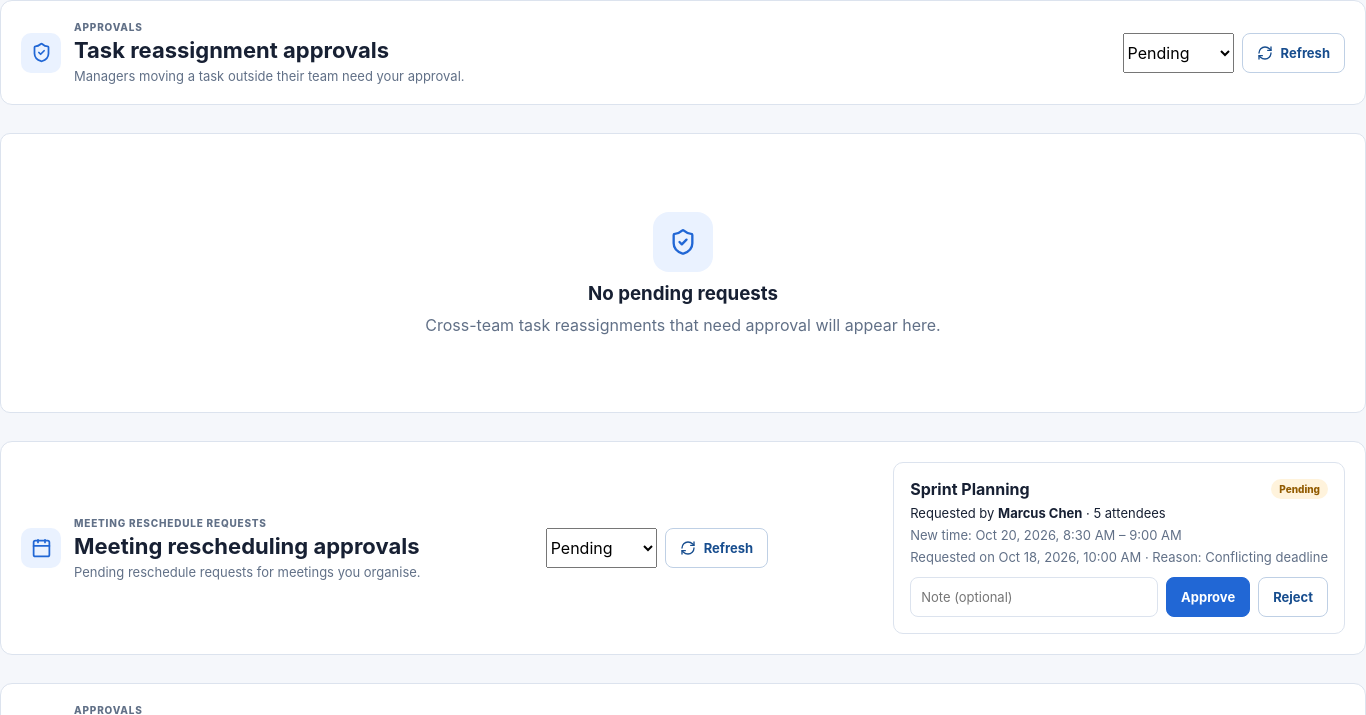
Test: ApprovalsPage — Meeting Reschedule Approvals Section › displays pending reschedule request and allows organizer to approve
The width and height of the screenshot is (1366, 715).
Check: the text "Sprint Planning" is shown, box [910,479,1030,499]
Check: the text "Marcus Chen" is shown, box [998,505,1082,521]
Click the button "Approve" at (1208, 597), box [1166,577,1250,617]
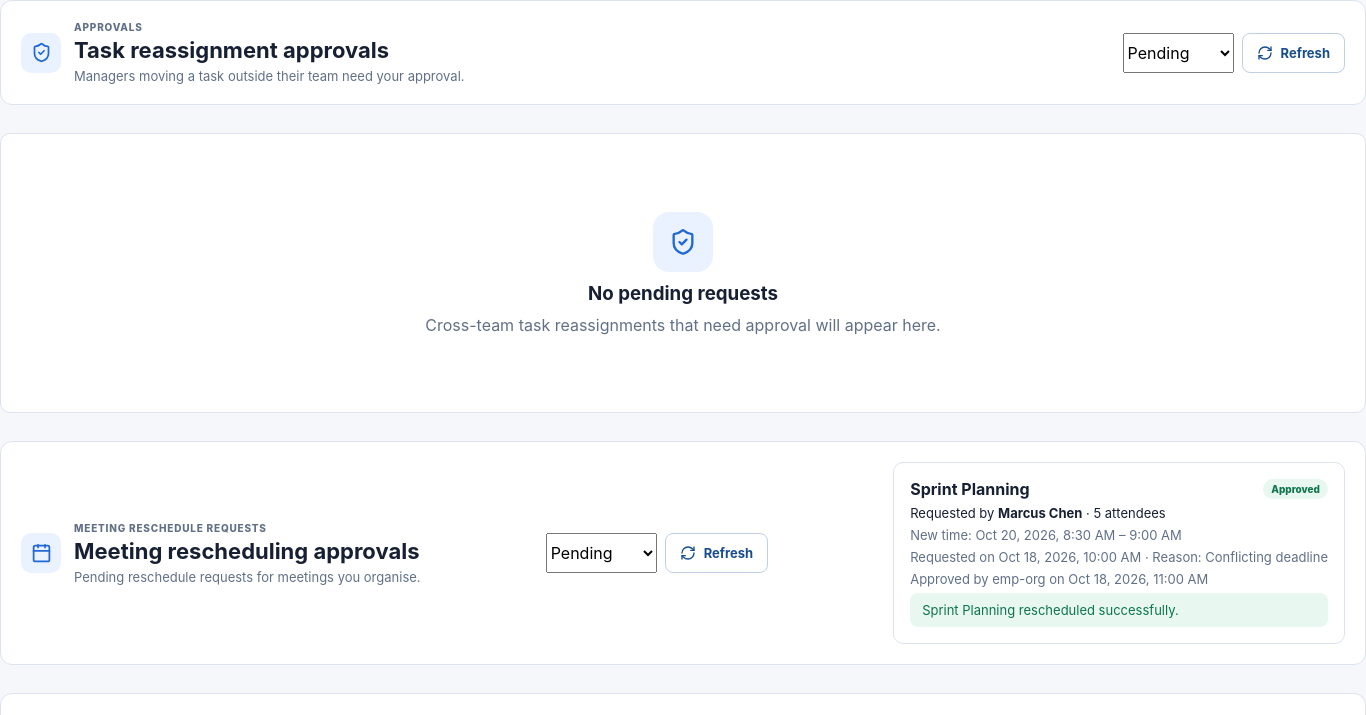
Check: the text "Sprint Planning rescheduled successfully." is shown, box [910,593,1328,627]
